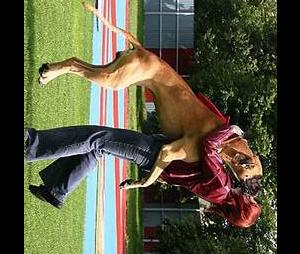dog: (37, 1, 263, 200)
